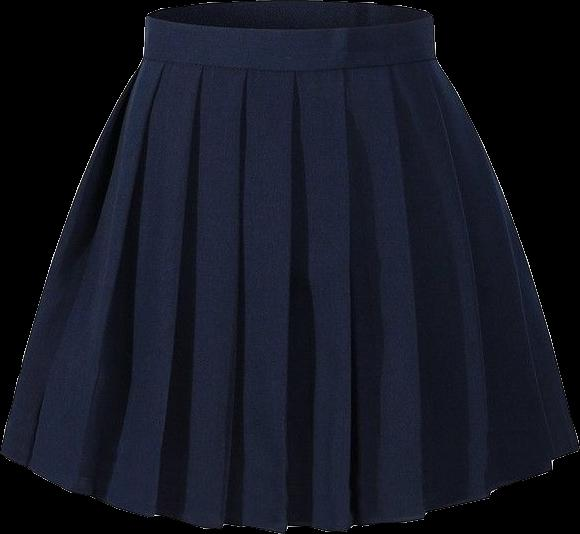Hemline: (0, 446, 579, 533)
Waistline: (144, 11, 433, 34), (141, 54, 440, 75)
